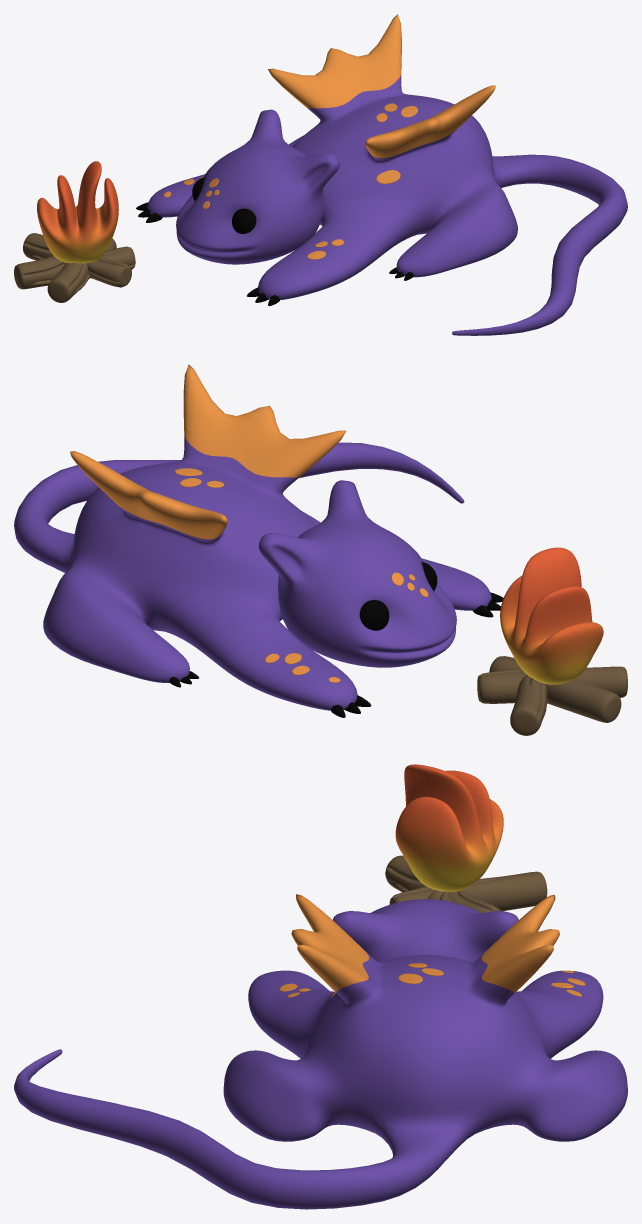
Rendered from the_cute_dragon.glb.
The picture shows the model from 3 angles, top to bottom: view 1: azimuth 30°, elevation 25°; view 2: azimuth 150°, elevation 25°; view 3: azimuth 270°, elevation 25°; orthographic projection. The views are drawn at different scales.
Parts seen in each view (by area): view 1: Cube.026, Cube.025, Cube.029, Circle.001, Circle.006, Circle.004, Circle.003, Sphere.002, Cube.027; view 2: Cube.026, Cube.025, Cube.029, Circle.001, Circle.004, Circle.006, Circle.003, Sphere.002, Cube.027; view 3: Cube.026, Cube.029, Cube.025, Circle.006, Circle.004, Circle.003.
Part boxes in pixels (left/top/right/bottom): Cube.026: left=147, top=14, right=627, bottom=335; Cube.025: left=176, top=109, right=339, bottom=264; Cube.029: left=37, top=161, right=118, bottom=263; Circle.001: left=14, top=246, right=135, bottom=289; Circle.006: left=23, top=233, right=131, bottom=287; Circle.004: left=47, top=238, right=116, bottom=302; Circle.003: left=164, top=103, right=417, bottom=259; Sphere.002: left=192, top=177, right=256, bottom=233; Cube.027: left=136, top=202, right=279, bottom=306; Cube.026: left=14, top=364, right=491, bottom=710; Cube.025: left=258, top=480, right=456, bottom=667; Cube.029: left=500, top=547, right=603, bottom=684; Circle.001: left=489, top=656, right=621, bottom=722; Circle.004: left=477, top=666, right=627, bottom=703; Circle.006: left=510, top=675, right=547, bottom=735; Circle.003: left=174, top=468, right=428, bottom=682; Sphere.002: left=359, top=562, right=437, bottom=630; Cube.027: left=331, top=592, right=503, bottom=717; Cube.026: left=14, top=894, right=627, bottom=1209; Cube.029: left=395, top=764, right=503, bottom=891; Cube.025: left=333, top=899, right=518, bottom=961; Circle.006: left=389, top=871, right=547, bottom=911; Circle.004: left=385, top=855, right=500, bottom=912; Circle.003: left=279, top=963, right=585, bottom=998.
Size of the model in its own units: 1.41 by 0.39 by 1.07.
5 materials, 1 textured.
